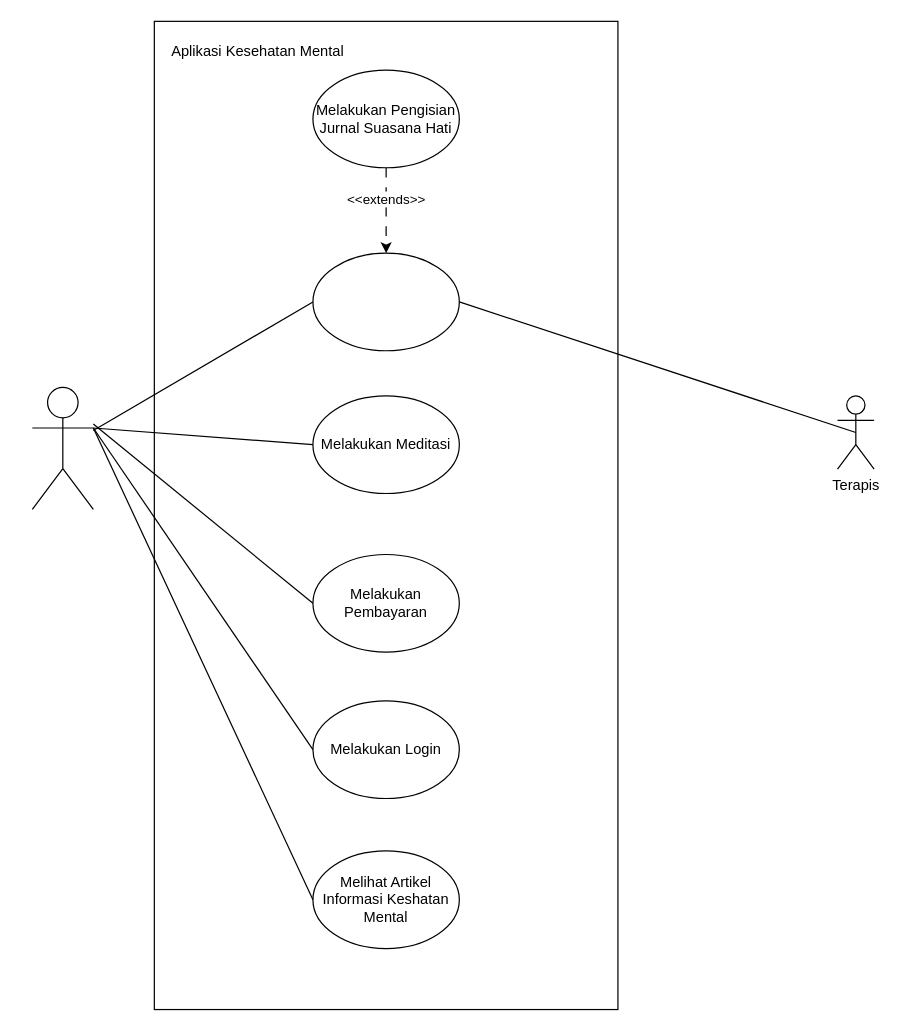
This 900x1031 diagram has some shape labels left out. The centre of each missing label's shape, as x and y in pixels:
"Melakukan Konseling Ke Terapis" belongs at [385,301].
"Pengguna" belongs at [62,447].
